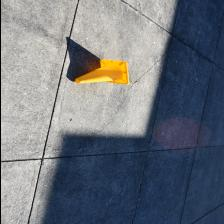cone: (73, 59, 129, 85)
